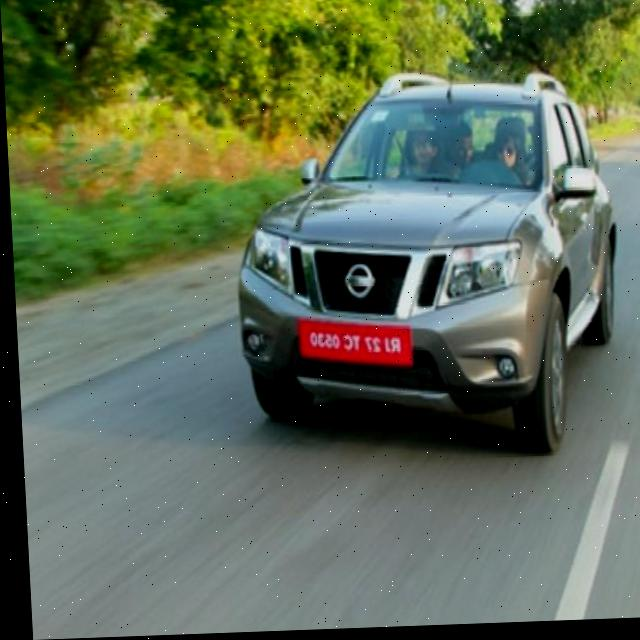plate: (294, 317, 412, 372)
